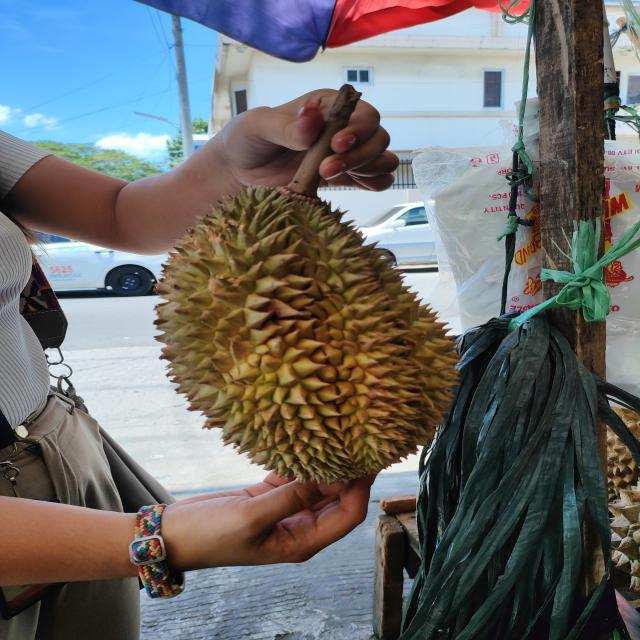mature: (151, 184, 466, 483)
